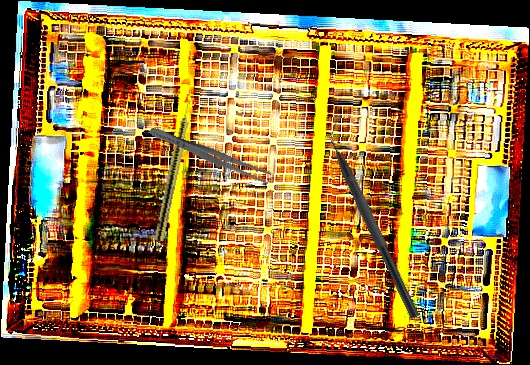Chopper: (316, 115, 433, 320)
Dressing Forceps: (147, 122, 273, 187)
Handpiece: (153, 94, 197, 242)
